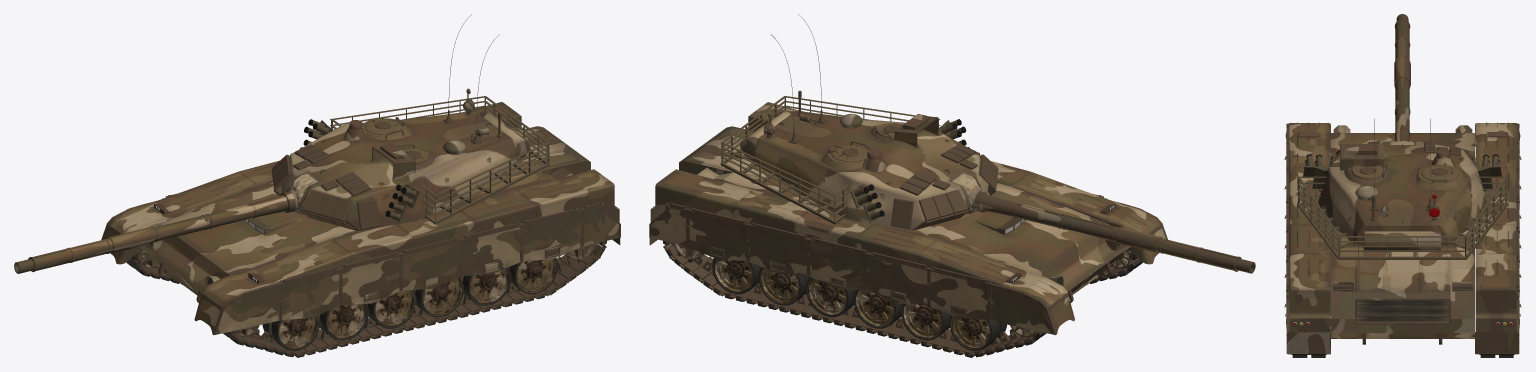
The model's file is al-khalid-type-90-iim-mbt-2000-main-battle-tank.glb.
3 views of the same model, side by side, from view 1: azimuth 30°, elevation 25°; view 2: azimuth 150°, elevation 25°; view 3: azimuth 270°, elevation 25° (orthographic).
Visible parts, largest first — view 1: Object_4, Object_2; view 2: Object_4, Object_2; view 3: Object_2, Object_4.
Boxes of the visible parts, x1,y1,x2,y2 form: Object_4: (101,102,620,357); Object_2: (14,14,590,302); Object_4: (649,102,1167,357); Object_2: (679,14,1255,302); Object_2: (1297,14,1507,344); Object_4: (1284,122,1521,357).
Size of the model in its own units: 945 by 385 by 352.
Materials: 4 (4 with a texture image).
